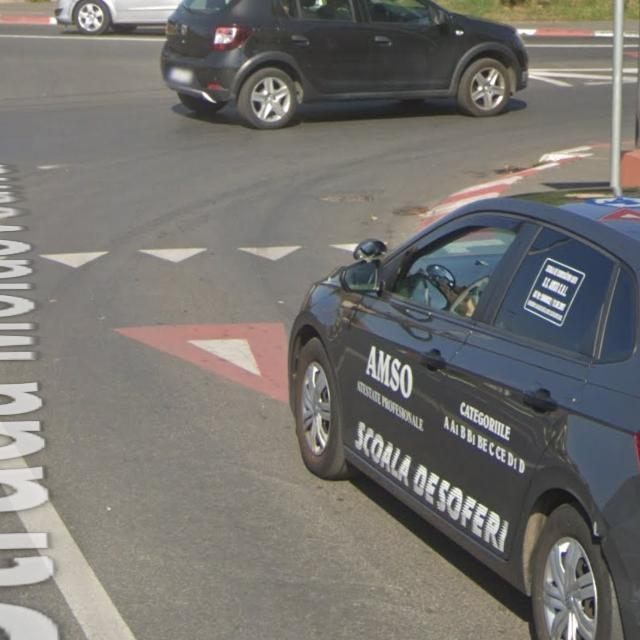prio_give_way: (114, 322, 291, 402)
